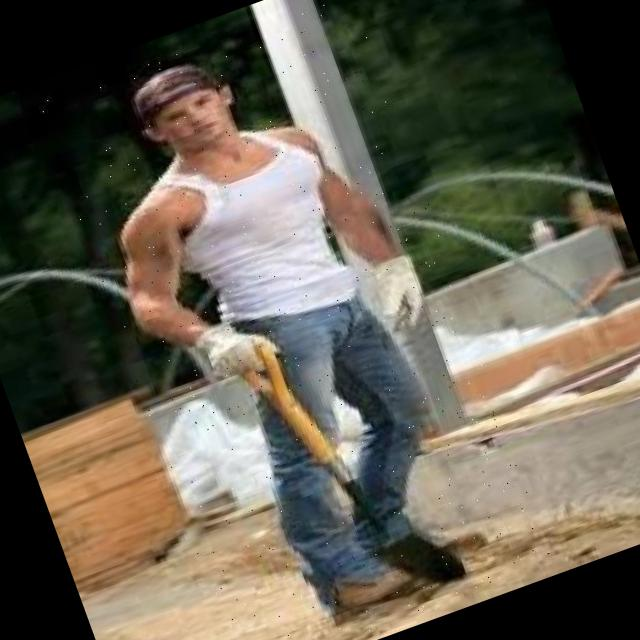vehicle: (34, 0, 559, 640)
work_boots: (310, 544, 417, 623)
